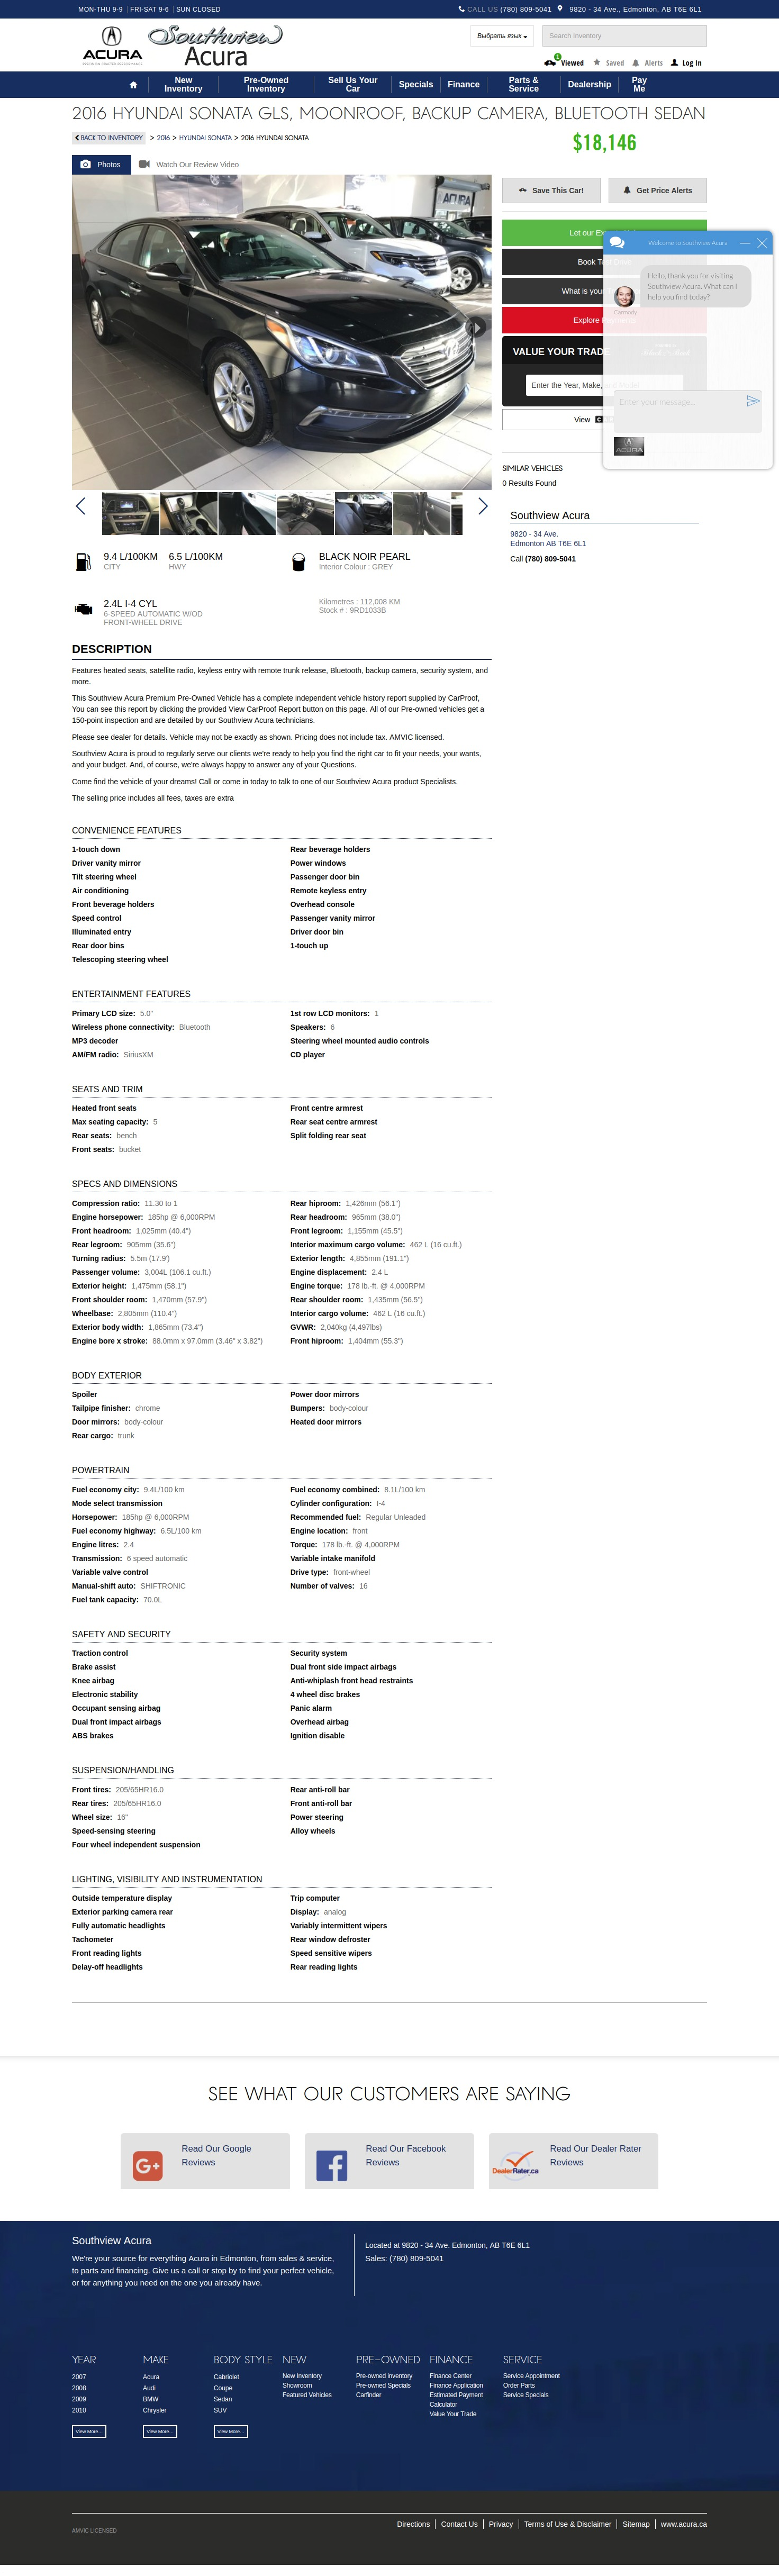car: (478, 498, 490, 516)
